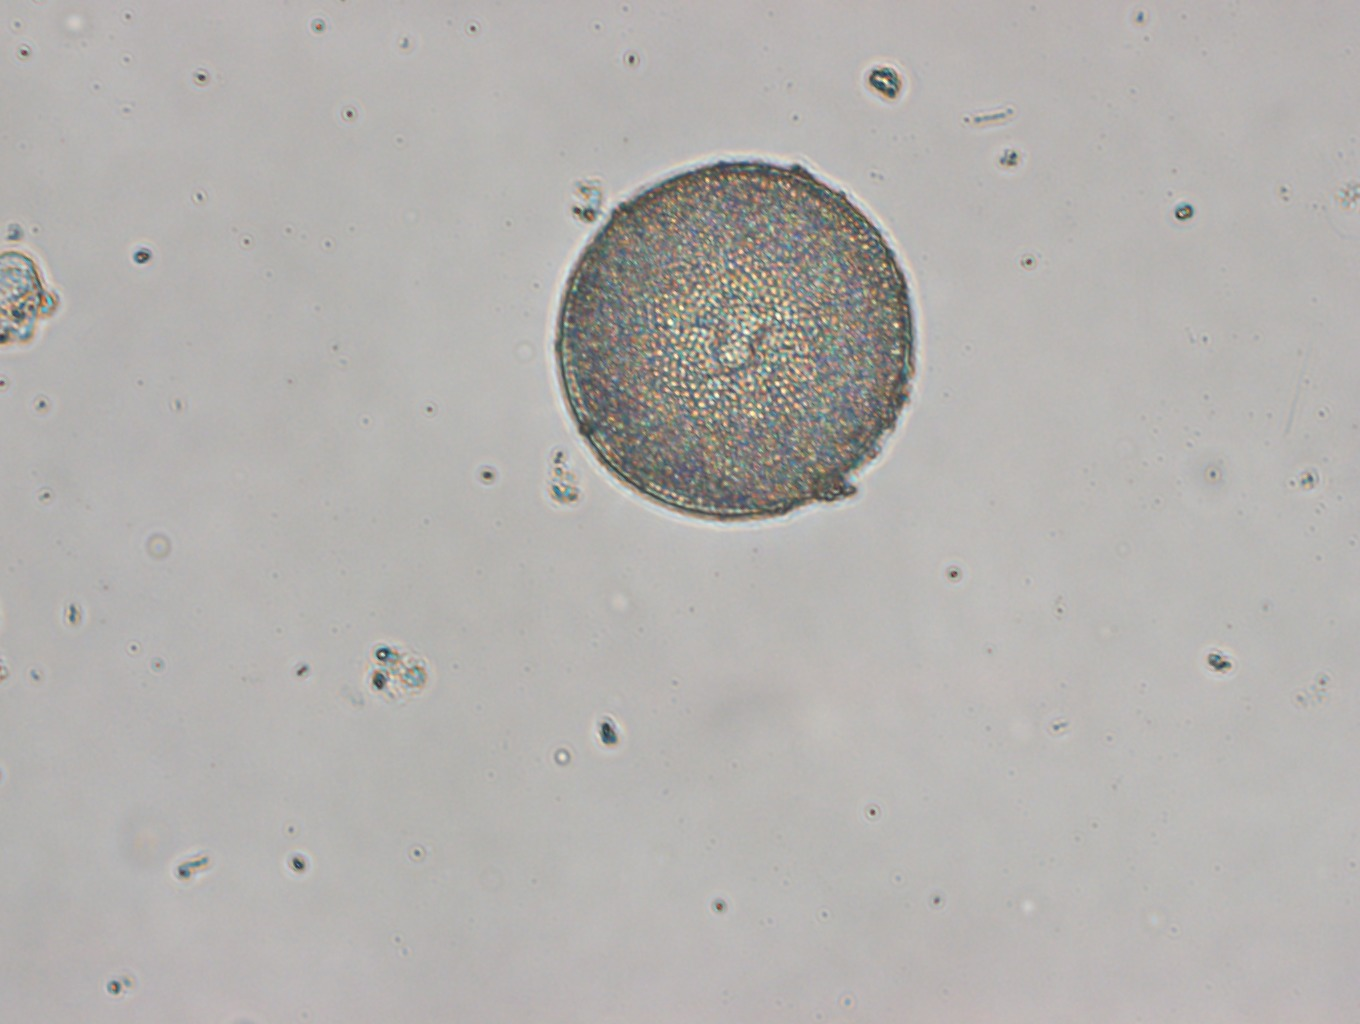coscinodiscus: (547, 156, 927, 525)
